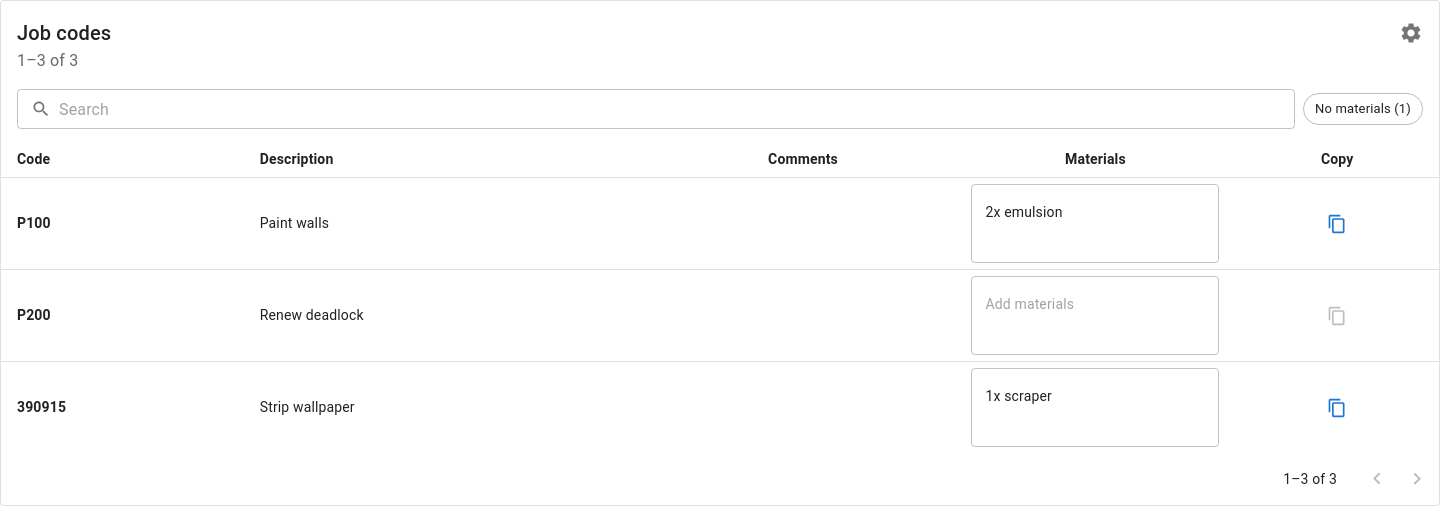
Test: searching and the empty-materials queue › filters the table as the search is typed
Step 1. Type "deadlock" into the field named "Search job codes" → (677, 109), box [59,89,1295,129]
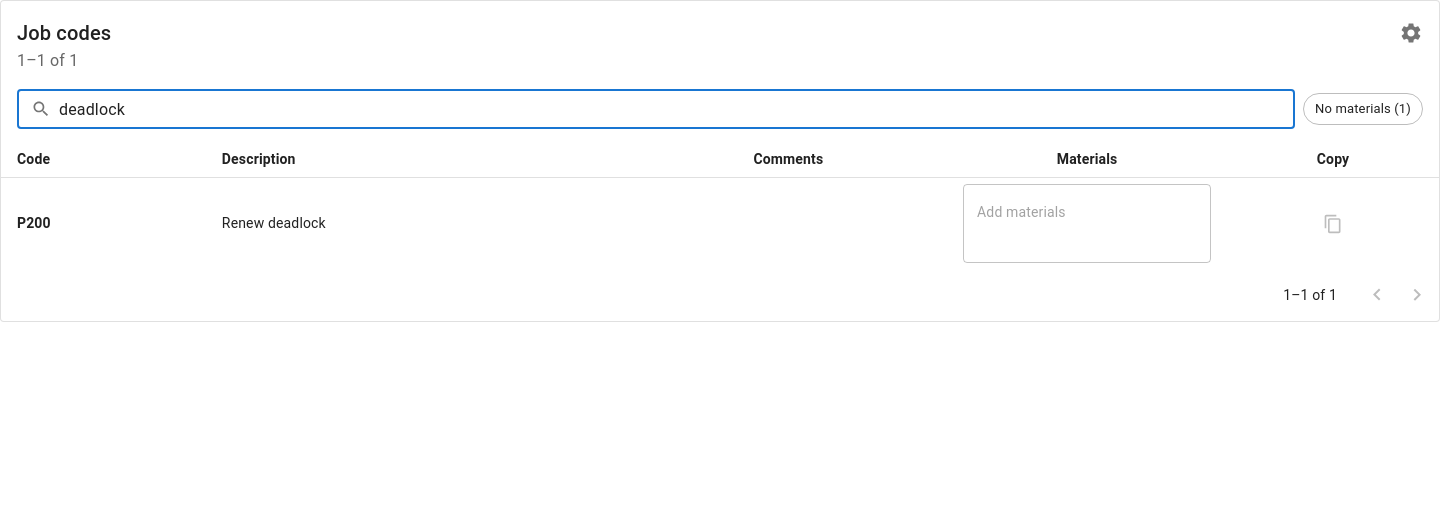
Expected: the text "P200" is shown, [1,178,206,269]
Result: the text "P100" is gone
Result: the text "1–1 of 1" below "Job codes" is shown at [17,51,78,70]
